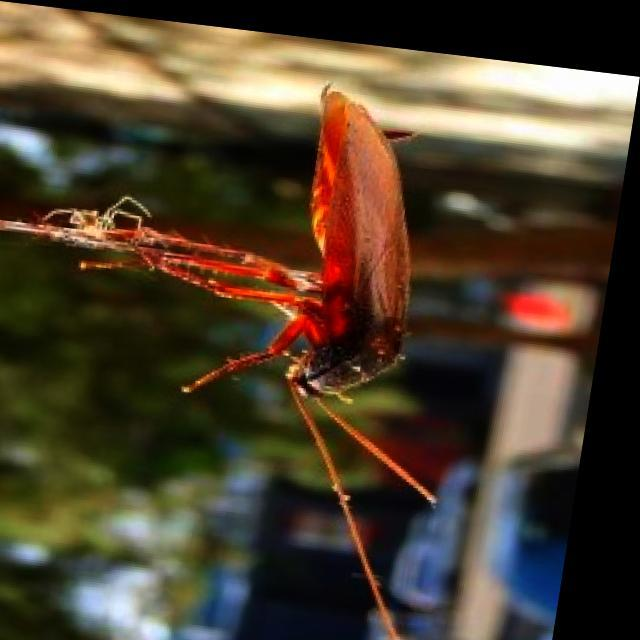cockroach: (131, 81, 418, 428)
